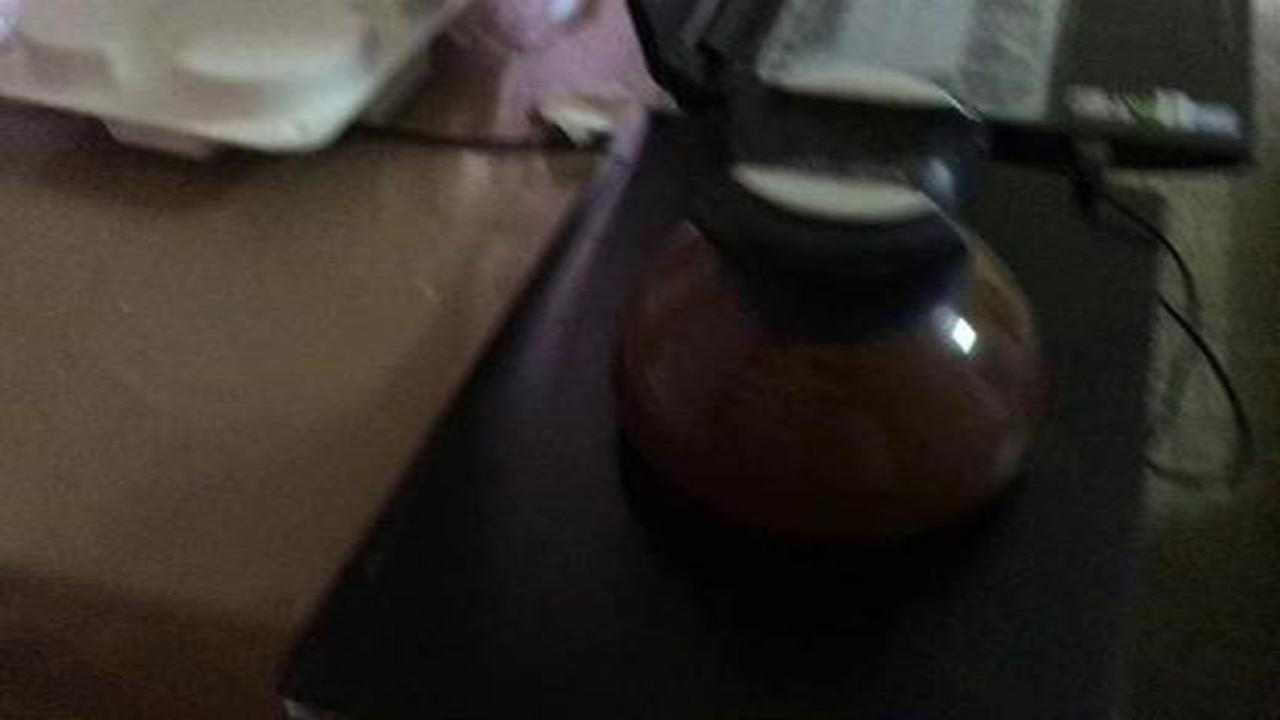insulator_pin: (600, 42, 1068, 580)
